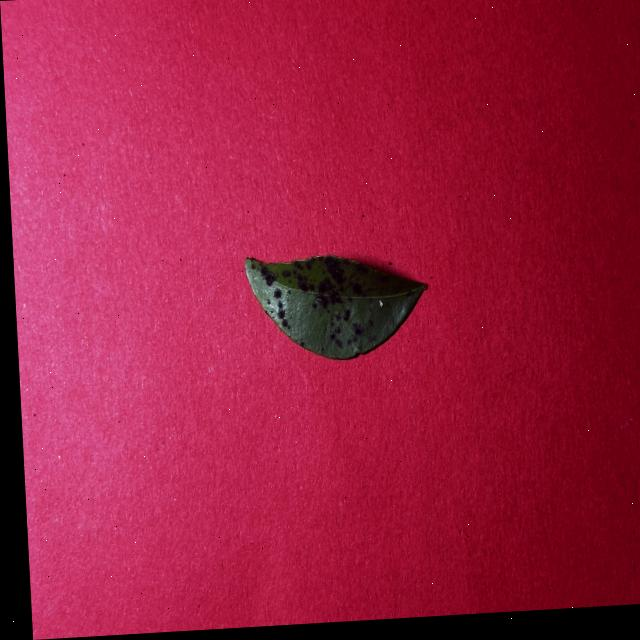sooty_mold: (245, 255, 427, 358)
